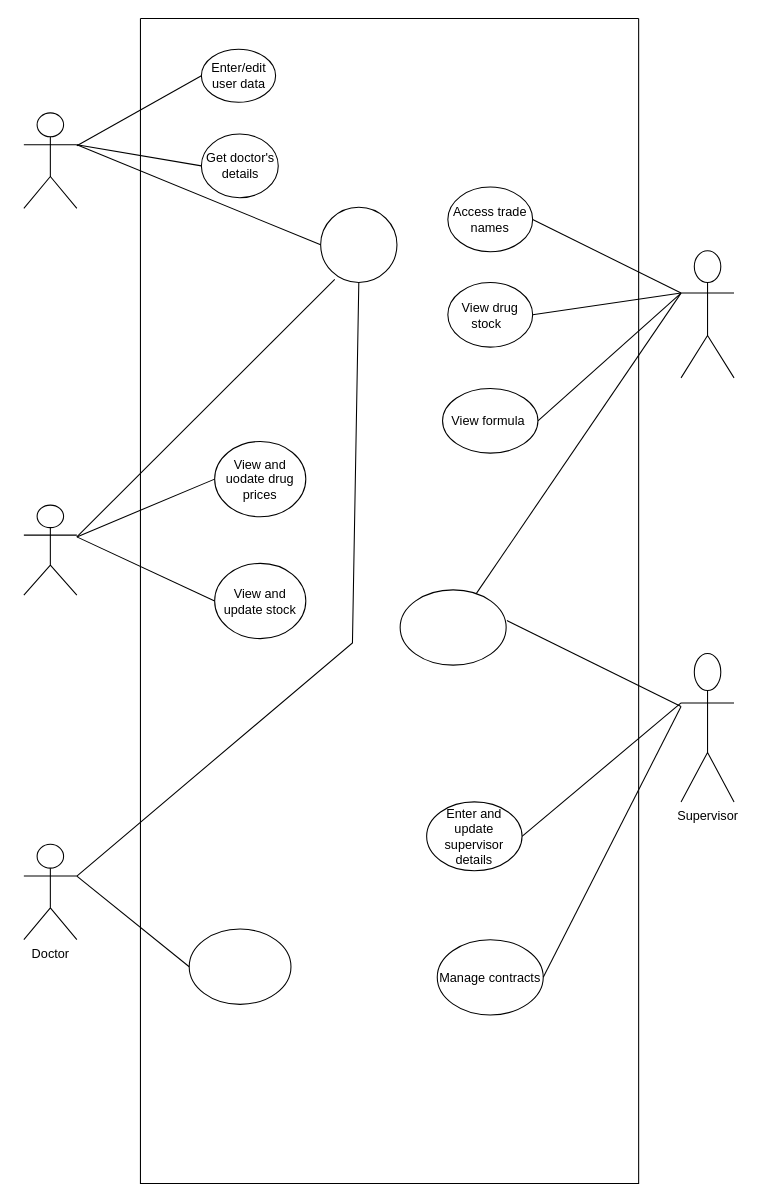
Image size: 770x1202. Some labels were removed from this diagram. The centre of each missing label's shape, as x and y in pixels:
Issue and update prescription: (239,966)
Patient: (50,160)
Pharmaceutical company: (707,314)
Pharmacist: (50,549)
View and authorize contracts: (452,627)
View presciption details: (358,244)
